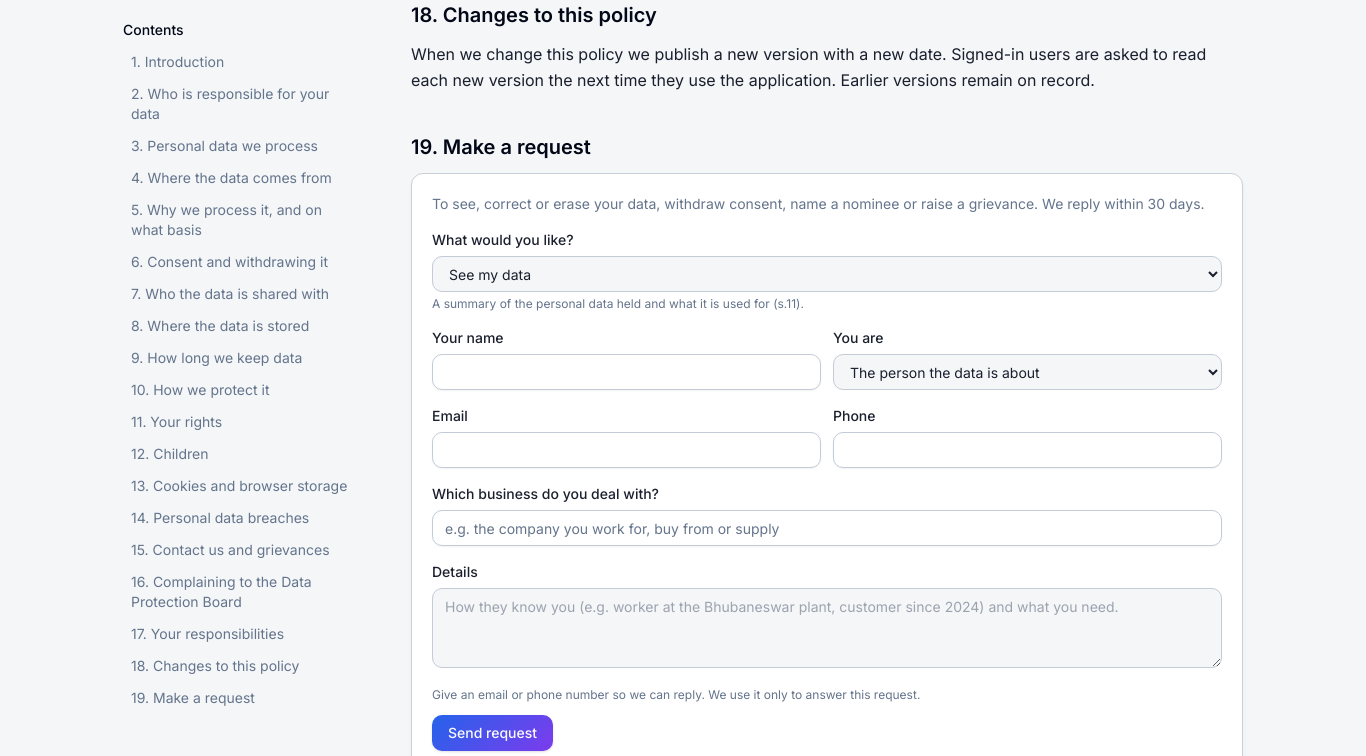
Test: PublicPrivacyPage › takes a request from someone with no login and gives back only a reference
(page scrolled)
In the field labelled "Your name": {"x": 626, "y": 372} [432,354,821,390], type "Ramesh Worker"
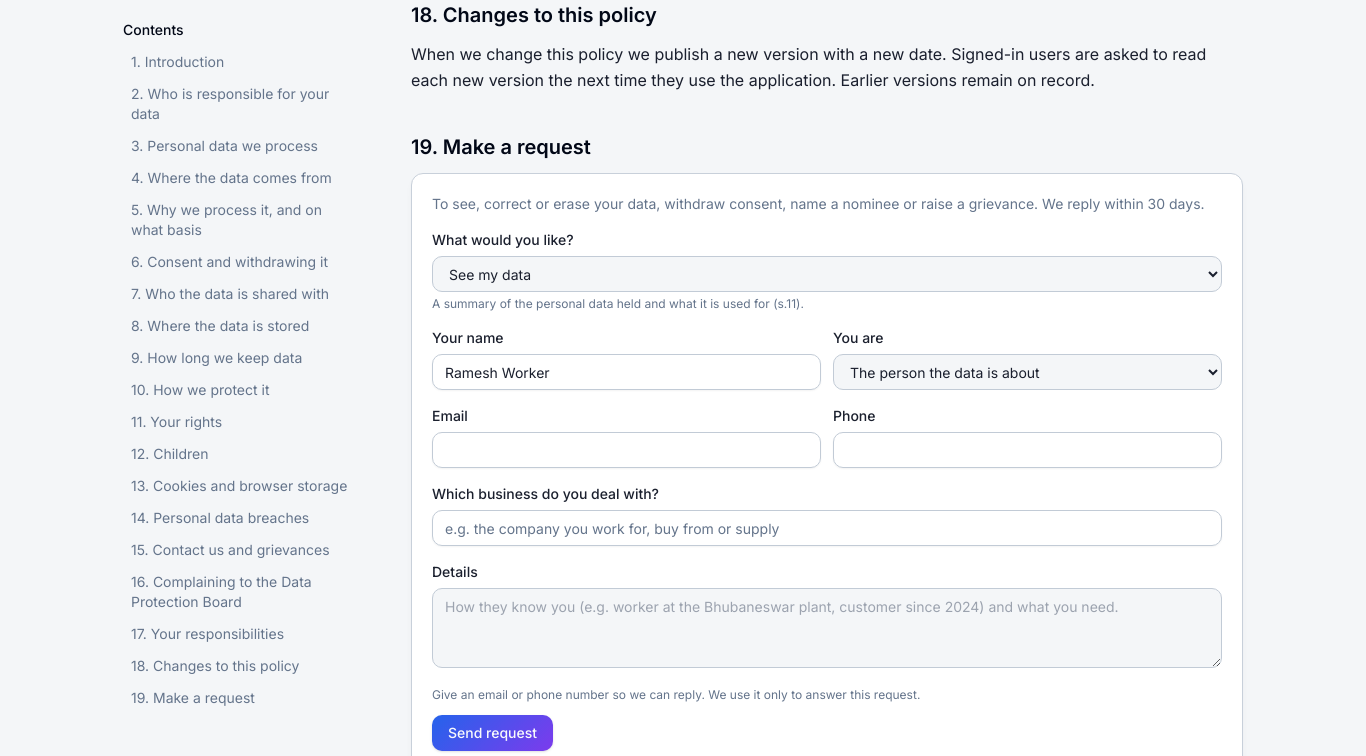
In the field labelled "Phone": {"x": 1028, "y": 450} [833,432,1222,468], type "9111111111"
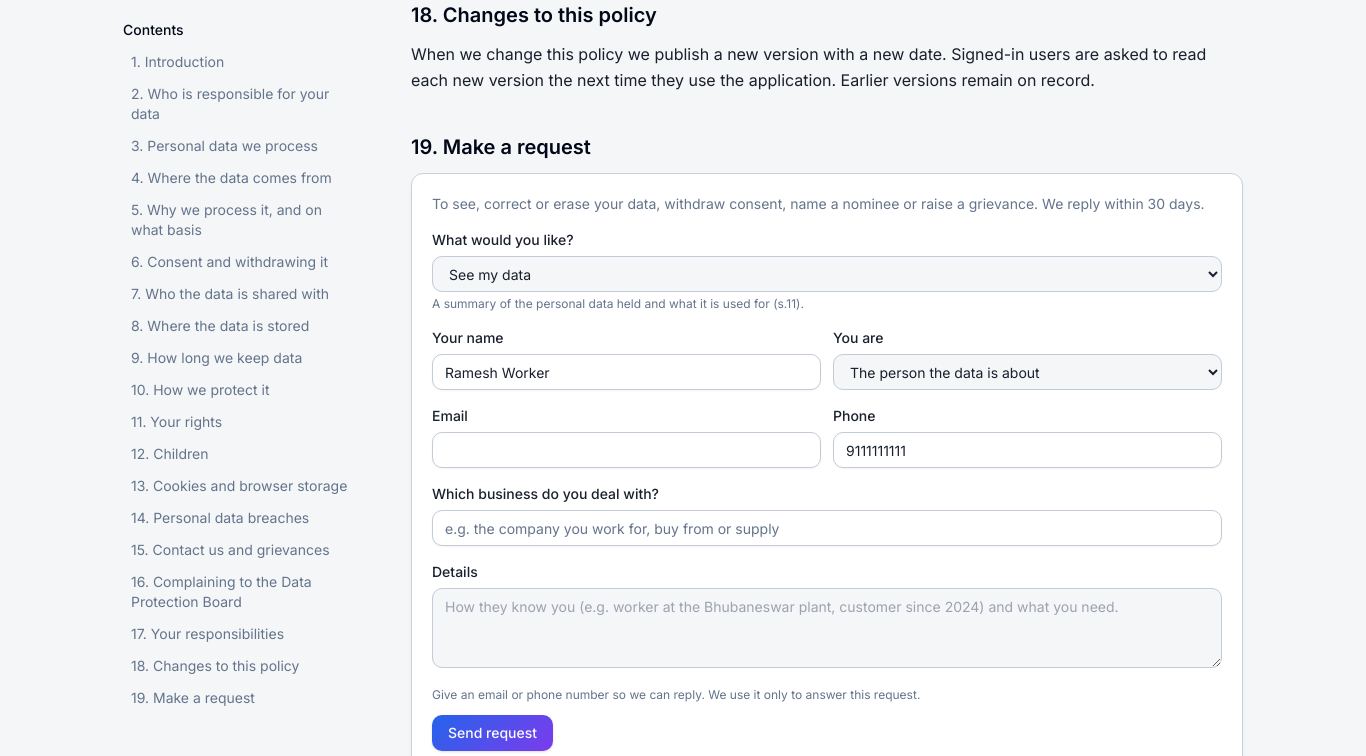
In the field labelled "Which business do you deal with?": {"x": 827, "y": 528} [432,510,1222,546], type "Infideep Precast"
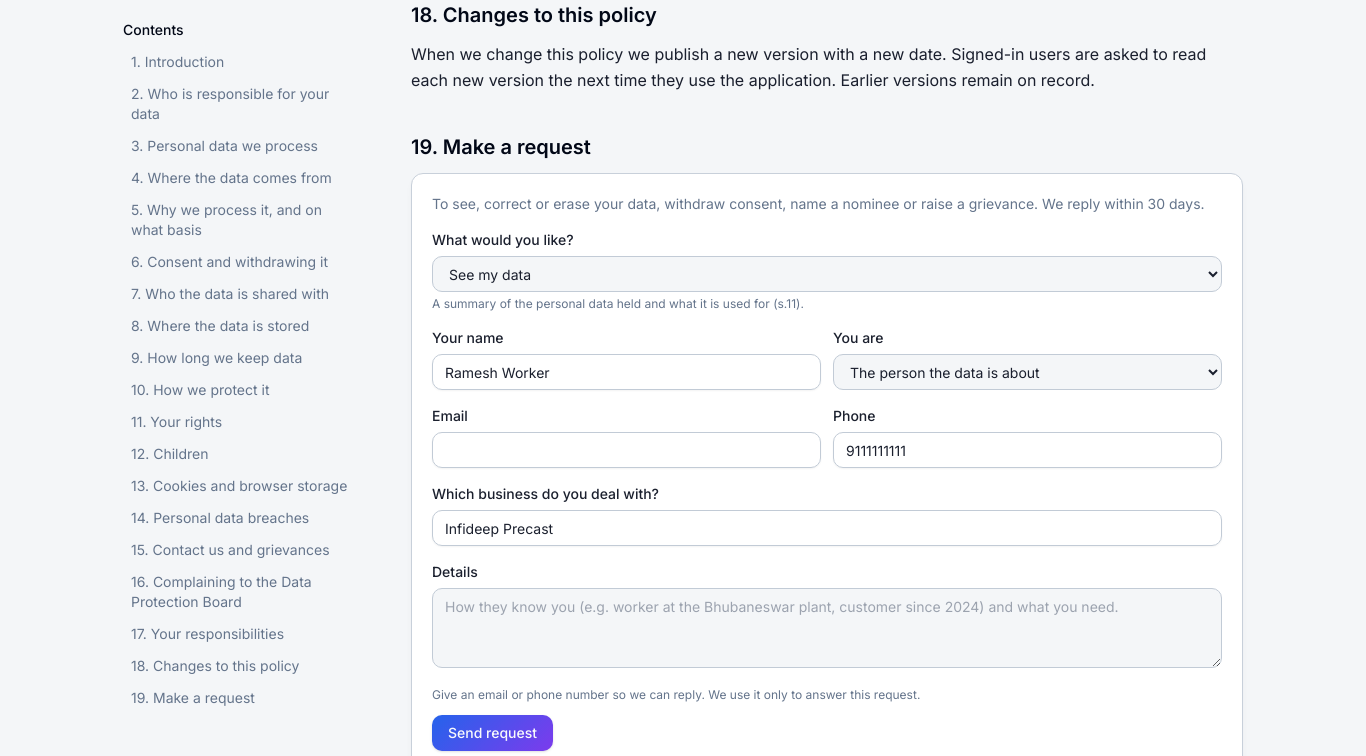
Click the button "Send request": {"x": 493, "y": 733} [432,715,553,751]
(page scrolled)
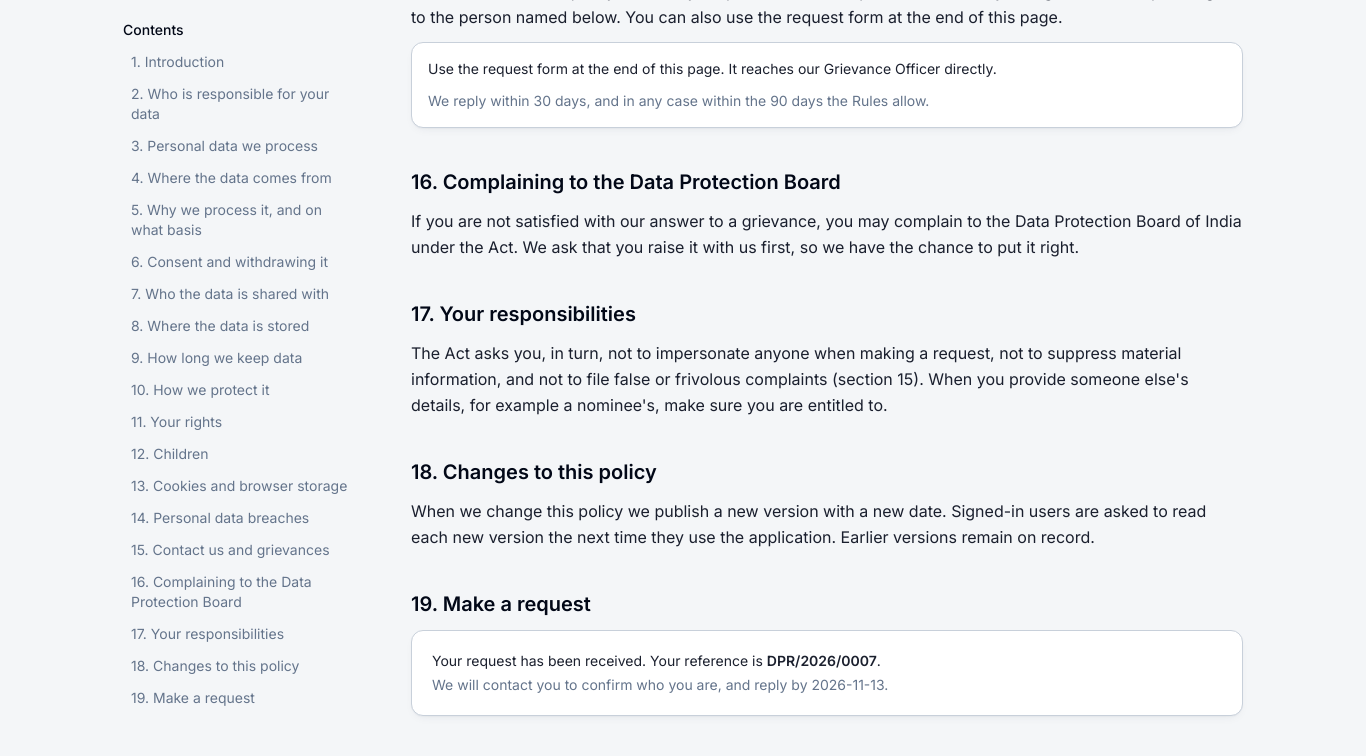
Result: the text "DPR/2026/0007" is shown at [767,652,877,669]
